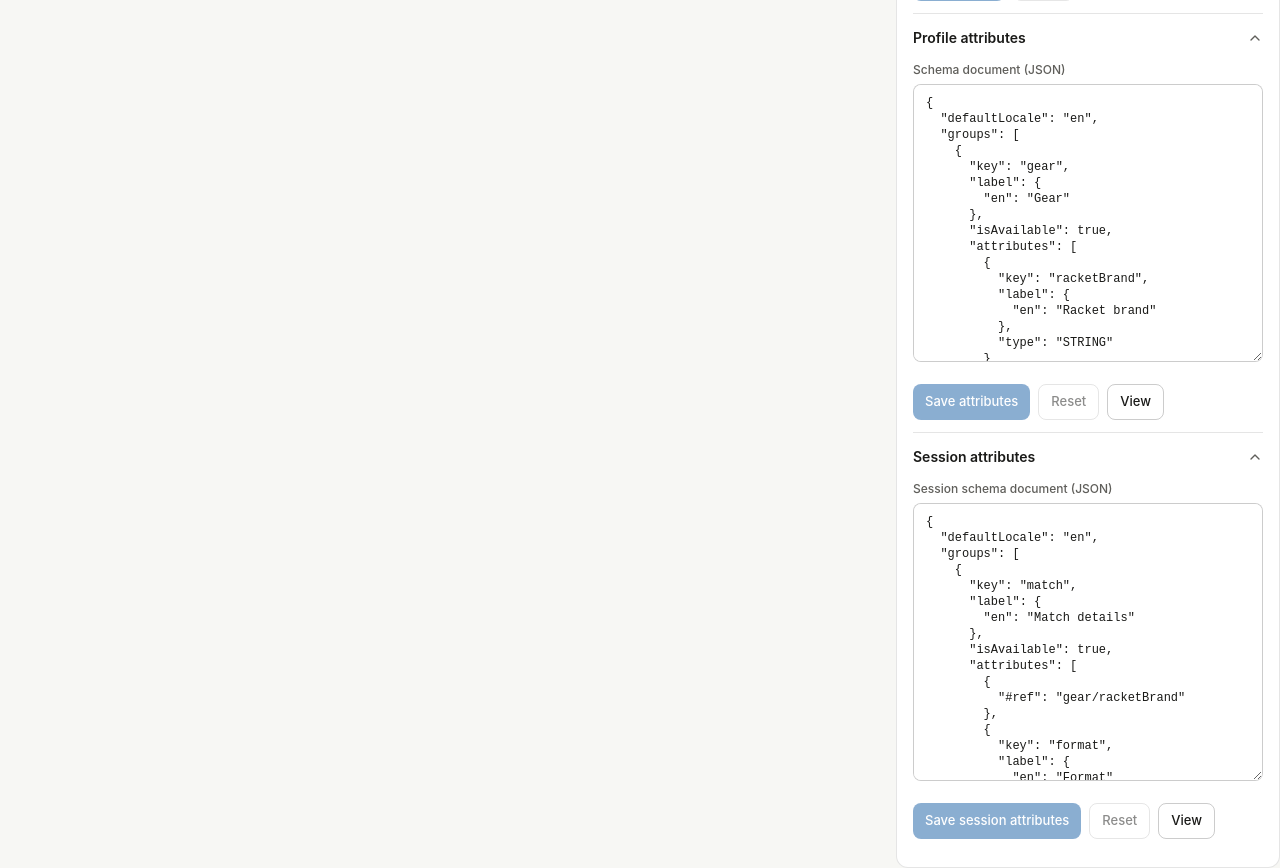
Test: AdminSportsPage › opens a read-only viewer showing the pretty-printed document
(page scrolled)
Expected: the text box labelled "Session schema document (JSON)" is shown, [913, 503, 1263, 781]
Note: Two "View" buttons (one per schema editor) — the session one is inside its section.
Click the button "View" below "Session schema document (JSON)": (1187, 821) [1158, 803, 1215, 839]
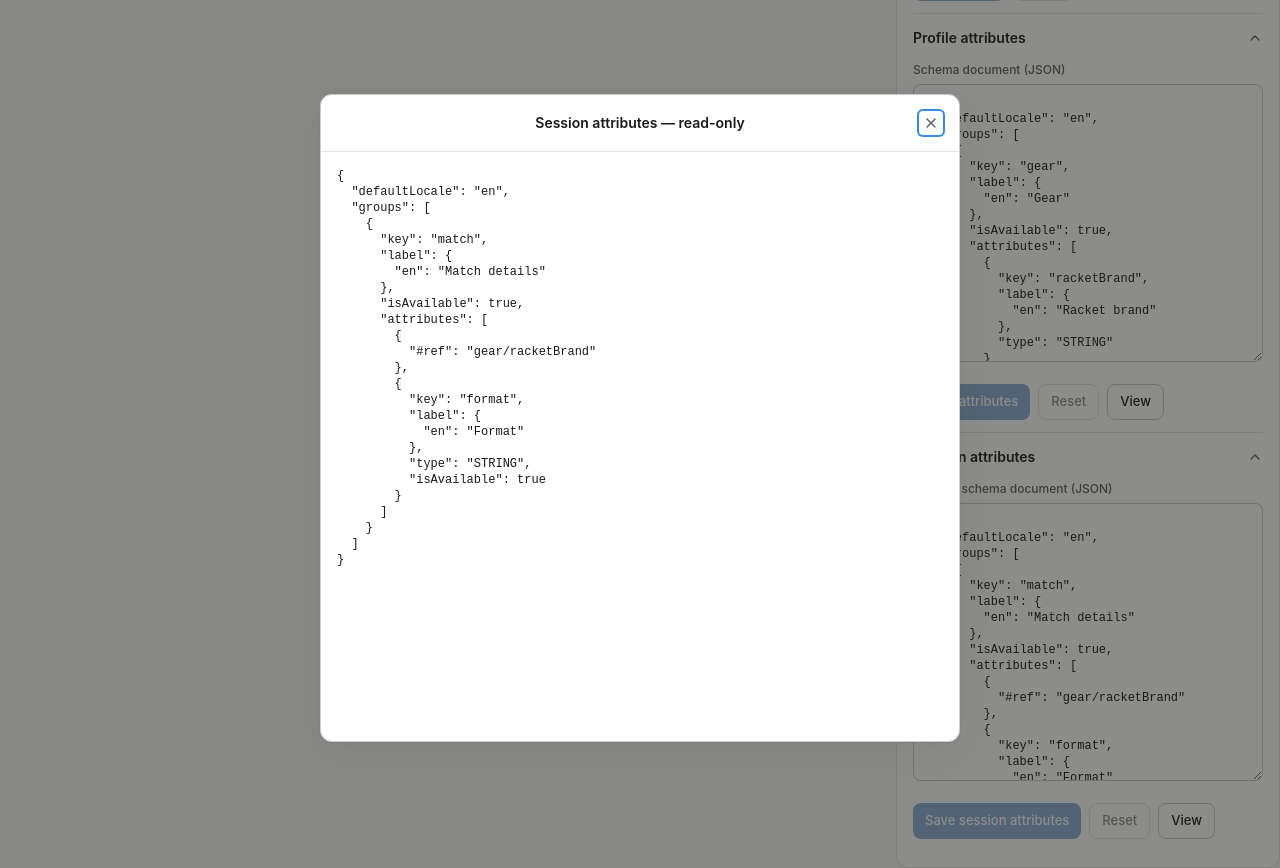
Expected: the heading "Session attributes — read-only" is shown, [535, 113, 745, 133]
Expected: the text "\"defaultLocale\": \"en\"" is shown, [337, 169, 596, 567]
Click the button named "Close": (931, 123) [919, 111, 943, 135]
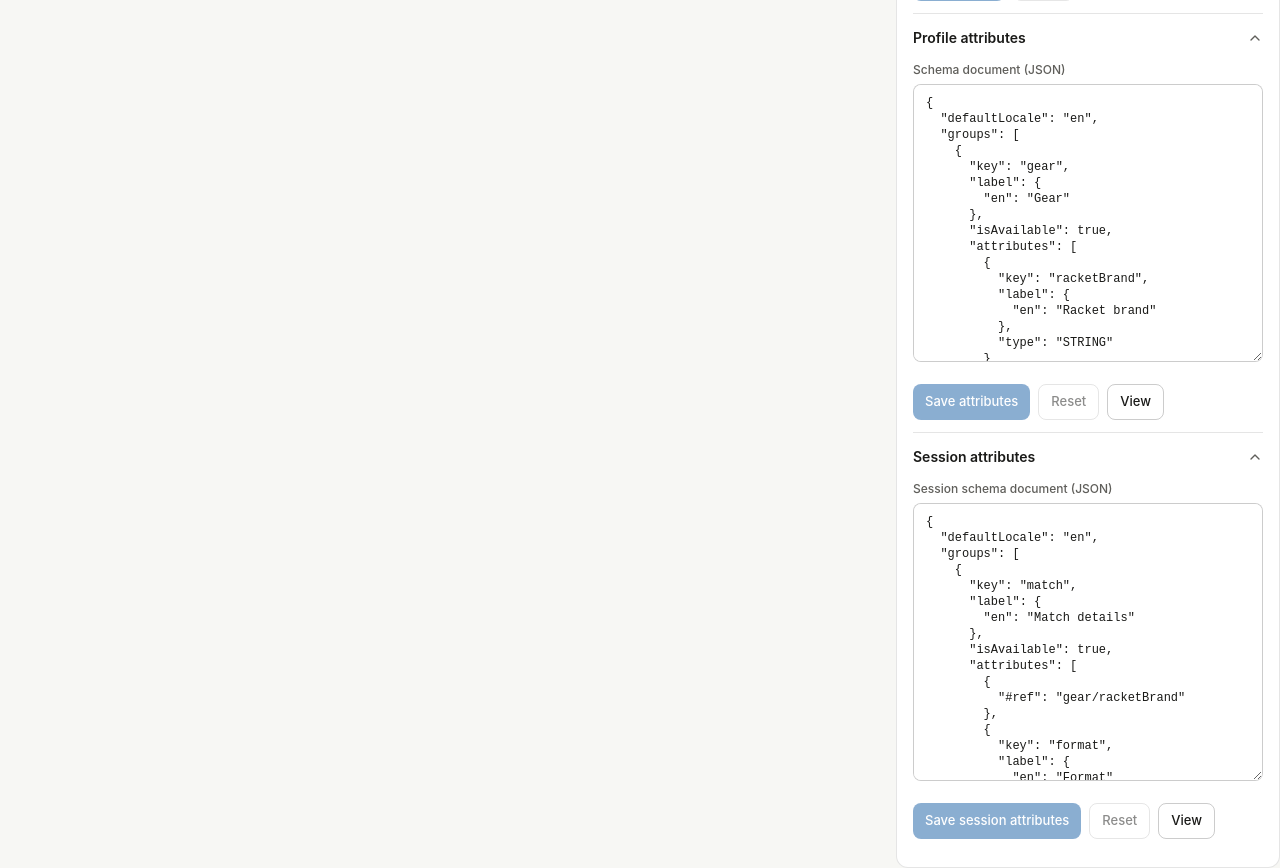
Expected: the dialog is gone
